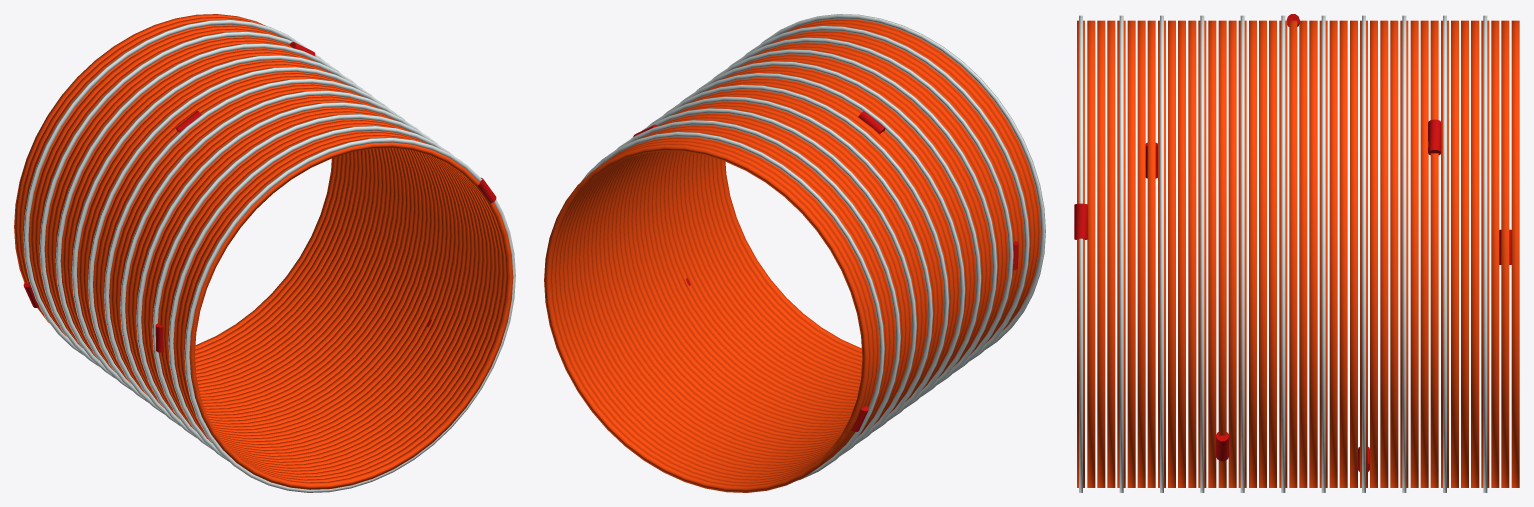
The model's file is reel_tether.dae.
The picture shows the model from 3 angles, left to right: view 1: azimuth 30°, elevation 25°; view 2: azimuth 150°, elevation 25°; view 3: azimuth 270°, elevation 25°; orthographic projection. The views are drawn at different scales.
Parts seen in each view (by area): view 1: node0, node1, node2; view 2: node0, node1, node2; view 3: node0, node1, node2.
Boxes of the visible parts, x1,y1,x2,y2 form: node0: [14, 14, 513, 489]; node1: [23, 19, 515, 492]; node2: [23, 42, 496, 352]; node0: [544, 19, 1040, 492]; node1: [581, 14, 1045, 480]; node2: [633, 111, 1018, 431]; node0: [1077, 20, 1519, 487]; node1: [1079, 15, 1487, 492]; node2: [1074, 14, 1511, 471].
Bounding box in the file's own units: 0.2866 × 0.2664 × 0.2868.
